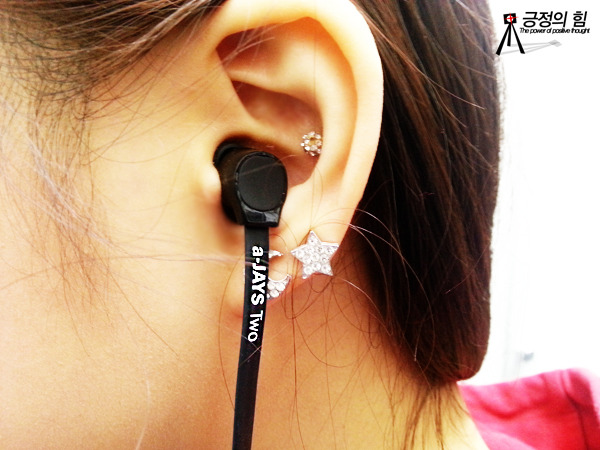earphone: (200, 1, 385, 317)
